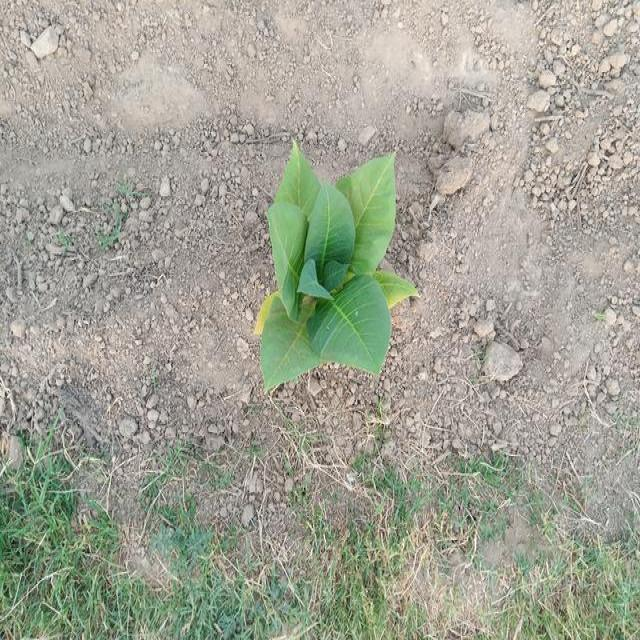crop: (255, 147, 406, 384)
